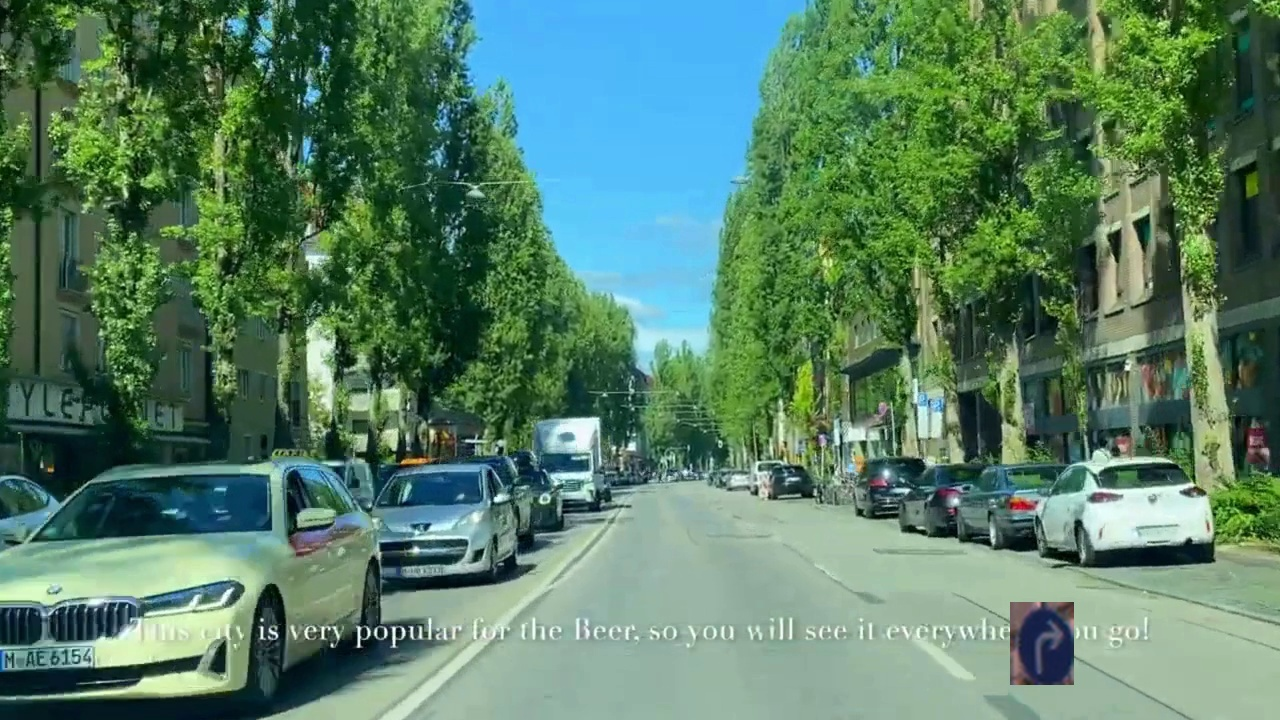Turn right: (1010, 602, 1074, 685)
